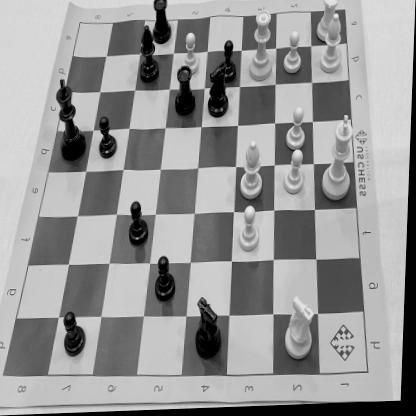black-bishop: (138, 23, 164, 87)
black-king: (52, 74, 90, 165)
black-knight: (192, 292, 228, 366), (205, 64, 232, 122)
black-pawn: (153, 252, 182, 308), (63, 308, 92, 361), (129, 198, 153, 250), (97, 112, 120, 162), (216, 40, 240, 87)
black-rook: (170, 64, 199, 119), (147, 0, 175, 49)
white-bishop: (240, 139, 269, 204), (319, 14, 347, 78)
white-king: (320, 114, 361, 207)
white-knight: (282, 294, 321, 366)
white-pawn: (236, 204, 266, 258), (284, 148, 312, 200), (280, 29, 306, 80), (178, 30, 204, 79), (286, 104, 310, 154)
white-queen: (247, 7, 279, 88)
white-rook: (312, 0, 344, 47)
